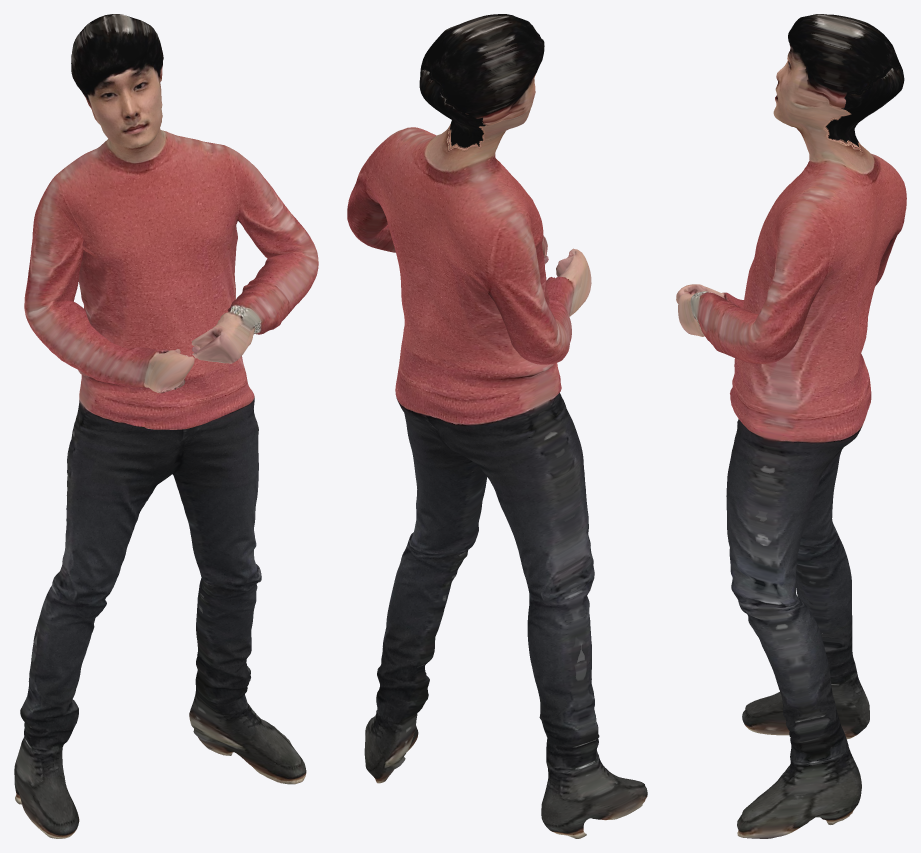
The model's file is jisung.glb.
3 renders of one model, left to right at view 1: azimuth 30°, elevation 25°; view 2: azimuth 150°, elevation 25°; view 3: azimuth 270°, elevation 25°, orthographic. The views are drawn at different scales.
Parts seen in each view (by area): view 1: pifuhd_ori.001; view 2: pifuhd_ori.001; view 3: pifuhd_ori.001.
Part boxes in pixels (left/top/right/bottom): pifuhd_ori.001: left=14, top=14, right=318, bottom=838; pifuhd_ori.001: left=347, top=14, right=647, bottom=838; pifuhd_ori.001: left=676, top=14, right=906, bottom=838.
Size of the model in its own units: 0.6405 by 1.67 by 0.4619.
1 material, 1 textured.
